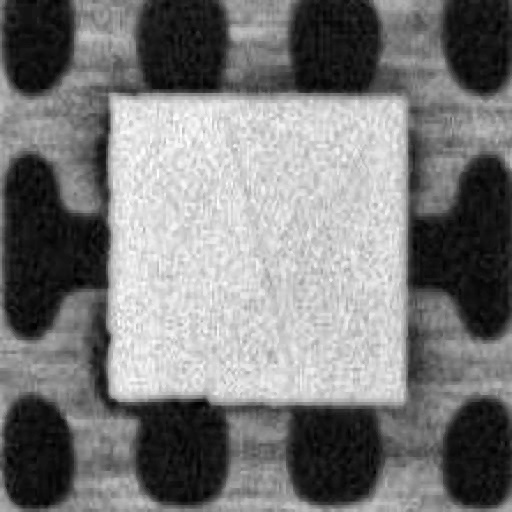DIE_CRACK: (333, 76, 433, 247)
